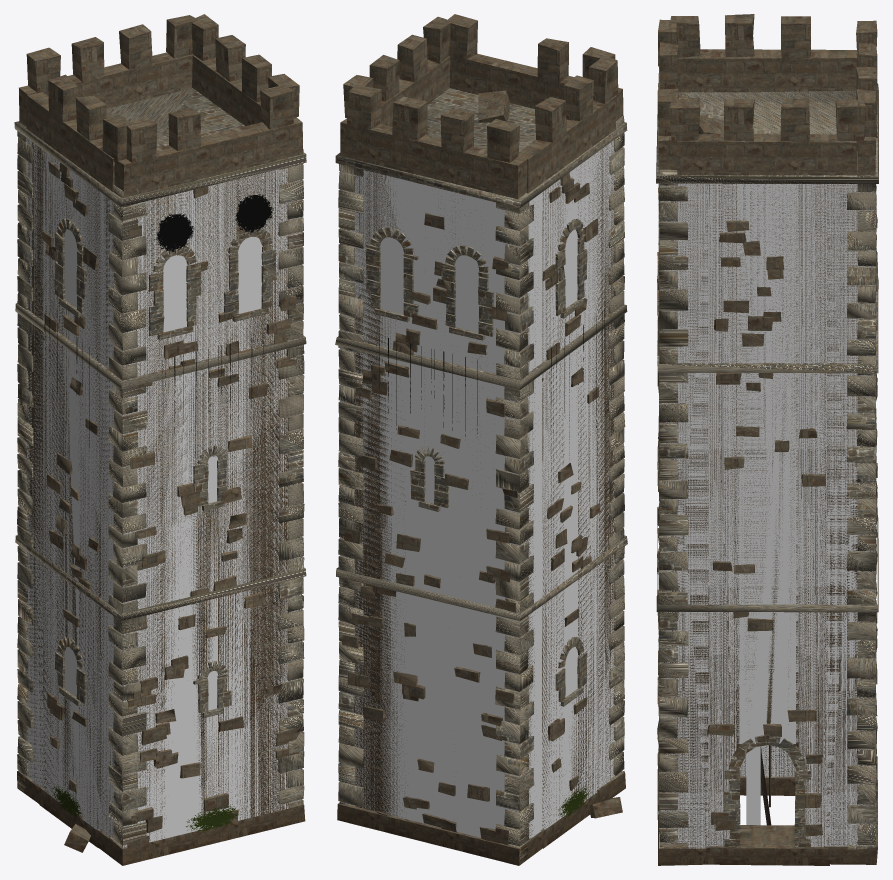
File: bld_chapel_st_noll_tower_shared_tex.glb
3 views of the same model, side by side, from view 1: azimuth 30°, elevation 25°; view 2: azimuth 150°, elevation 25°; view 3: azimuth 270°, elevation 25° (orthographic). The views are drawn at different scales.
Visible parts, largest first — view 1: col_tower_S, lite_merge_02, lite_merge_00, lite_merge_01, col_tower_W, lite_merge_03, col_tower_N, tower_W_stones, decals_tower, lite_merge_04; view 2: col_tower_N, lite_merge_00, lite_merge_01, lite_merge_03, col_tower_W, lite_merge_04, lite_merge_02, col_tower_S, tower_W_stones, decals_tower; view 3: lite_merge_00, lite_merge_02, col_tower_E_top, lite_merge_01, lite_merge_03, col_tower_S, col_tower_N, col_tower_E_b, col_tower_E_a, col_tower_ladder, col_tower_W, tower_W_stones.
Boxes of the visible parts, x1=… form: col_tower_S: x1=100, y1=165, x2=300, y2=848; lite_merge_02: x1=96, y1=165, x2=305, y2=865; lite_merge_00: x1=14, y1=88, x2=306, y2=848; lite_merge_01: x1=19, y1=14, x2=302, y2=852; col_tower_W: x1=43, y1=150, x2=100, y2=829; lite_merge_03: x1=17, y1=138, x2=45, y2=803; col_tower_N: x1=20, y1=137, x2=43, y2=787; tower_W_stones: x1=39, y1=161, x2=99, y2=847; decals_tower: x1=39, y1=194, x2=273, y2=832; lite_merge_04: x1=54, y1=218, x2=86, y2=706; col_tower_N: x1=341, y1=170, x2=541, y2=838; lite_merge_00: x1=335, y1=84, x2=627, y2=863; lite_merge_01: x1=340, y1=14, x2=623, y2=828; lite_merge_03: x1=337, y1=170, x2=544, y2=865; col_tower_W: x1=542, y1=151, x2=598, y2=829; lite_merge_04: x1=366, y1=219, x2=587, y2=706; lite_merge_02: x1=597, y1=141, x2=625, y2=800; col_tower_S: x1=599, y1=140, x2=621, y2=788; tower_W_stones: x1=541, y1=173, x2=602, y2=848; decals_tower: x1=376, y1=309, x2=604, y2=818; lite_merge_00: x1=656, y1=83, x2=878, y2=859; lite_merge_02: x1=657, y1=184, x2=826, y2=865; col_tower_E_top: x1=737, y1=184, x2=798, y2=743; lite_merge_01: x1=657, y1=14, x2=877, y2=776; lite_merge_03: x1=706, y1=184, x2=877, y2=865; col_tower_S: x1=661, y1=183, x2=708, y2=848; col_tower_N: x1=826, y1=184, x2=873, y2=846; col_tower_E_b: x1=798, y1=184, x2=826, y2=846; col_tower_E_a: x1=708, y1=183, x2=736, y2=846; col_tower_ladder: x1=746, y1=746, x2=760, y2=825; col_tower_W: x1=739, y1=745, x2=795, y2=776; tower_W_stones: x1=739, y1=776, x2=795, y2=795.
Bounding box in the file's own units: 5.37 × 17.87 × 4.72.
6 materials, 6 textured.
